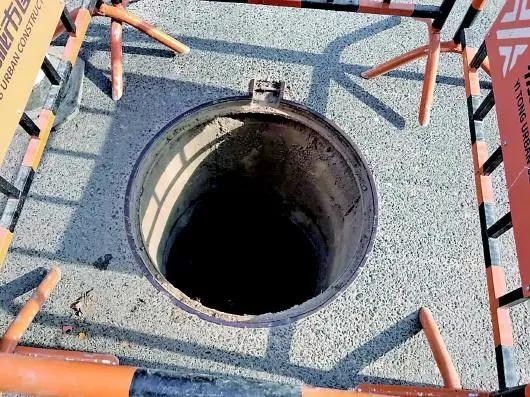wellcover: (131, 88, 382, 329)
